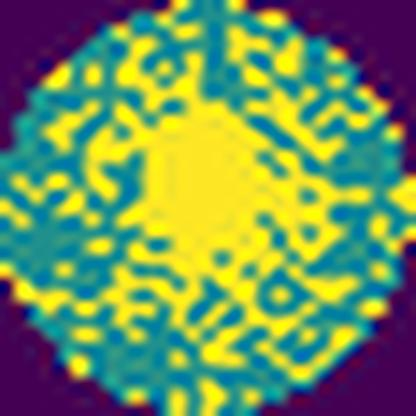Center: (86, 41, 372, 369)
